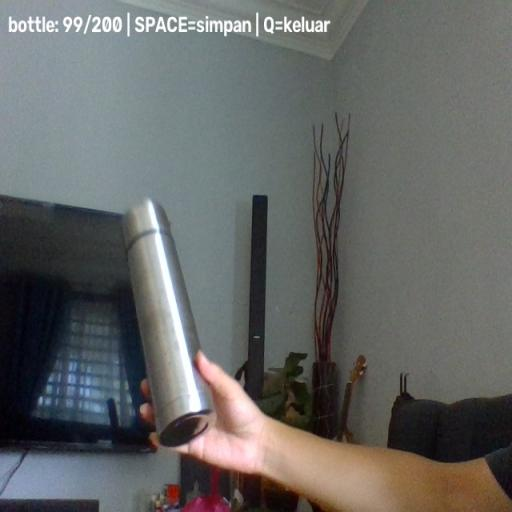Bottle: (122, 198, 216, 448)
